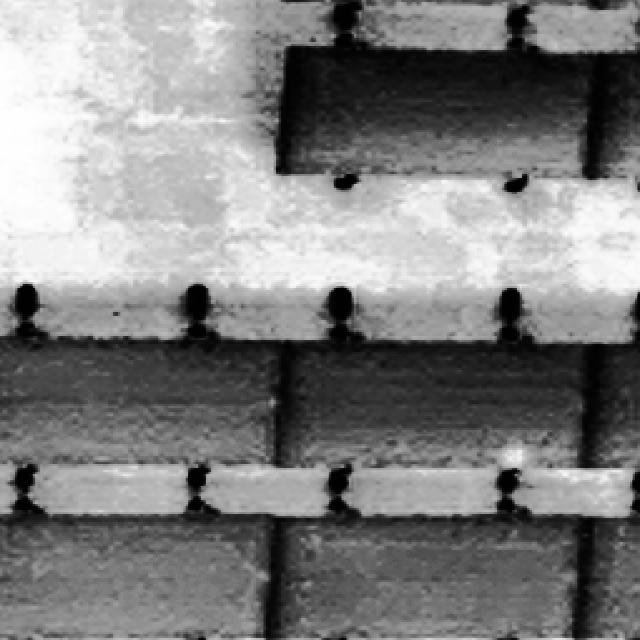Hotspots: (474, 441, 548, 472)
PV-modules: (281, 336, 600, 469), (278, 54, 601, 180), (0, 341, 298, 470), (265, 523, 591, 640), (0, 521, 277, 640), (580, 514, 640, 637), (586, 55, 640, 182), (586, 343, 640, 467), (304, 0, 596, 4), (592, 0, 640, 7)
